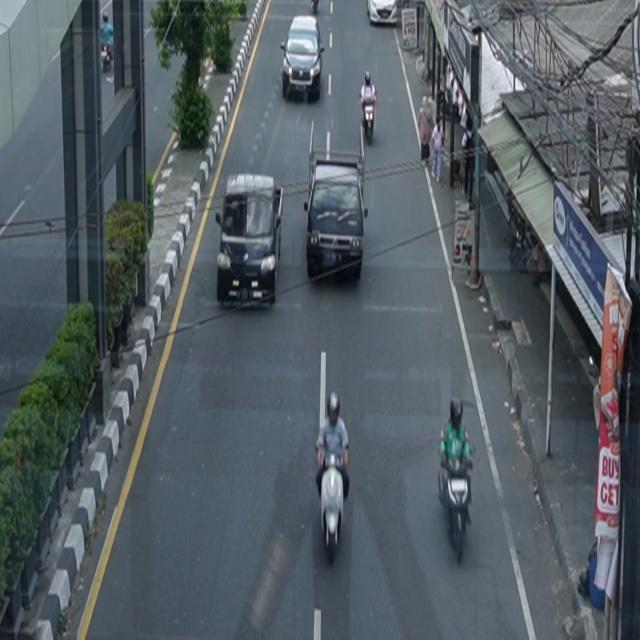car: (216, 173, 284, 308), (280, 16, 326, 101), (367, 1, 399, 27)
truck: (305, 121, 369, 282)
